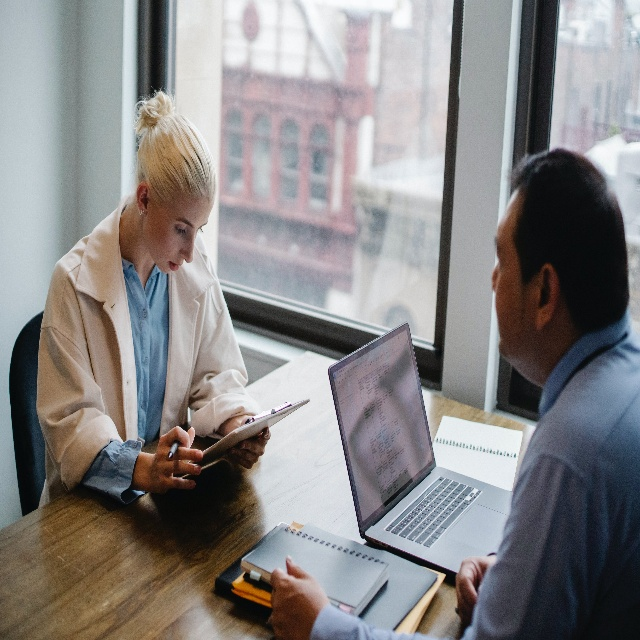Sin_guantes: (269, 553, 329, 640), (150, 428, 206, 494), (454, 550, 500, 628), (229, 419, 272, 471)
